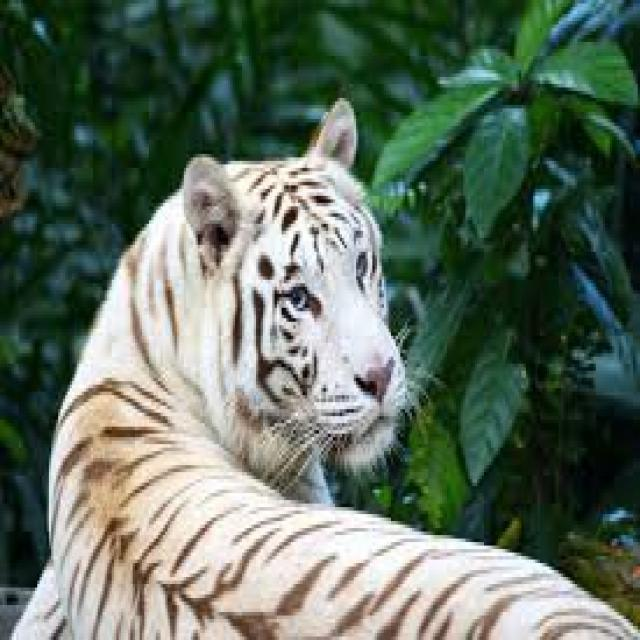tiger: (12, 98, 638, 637)
